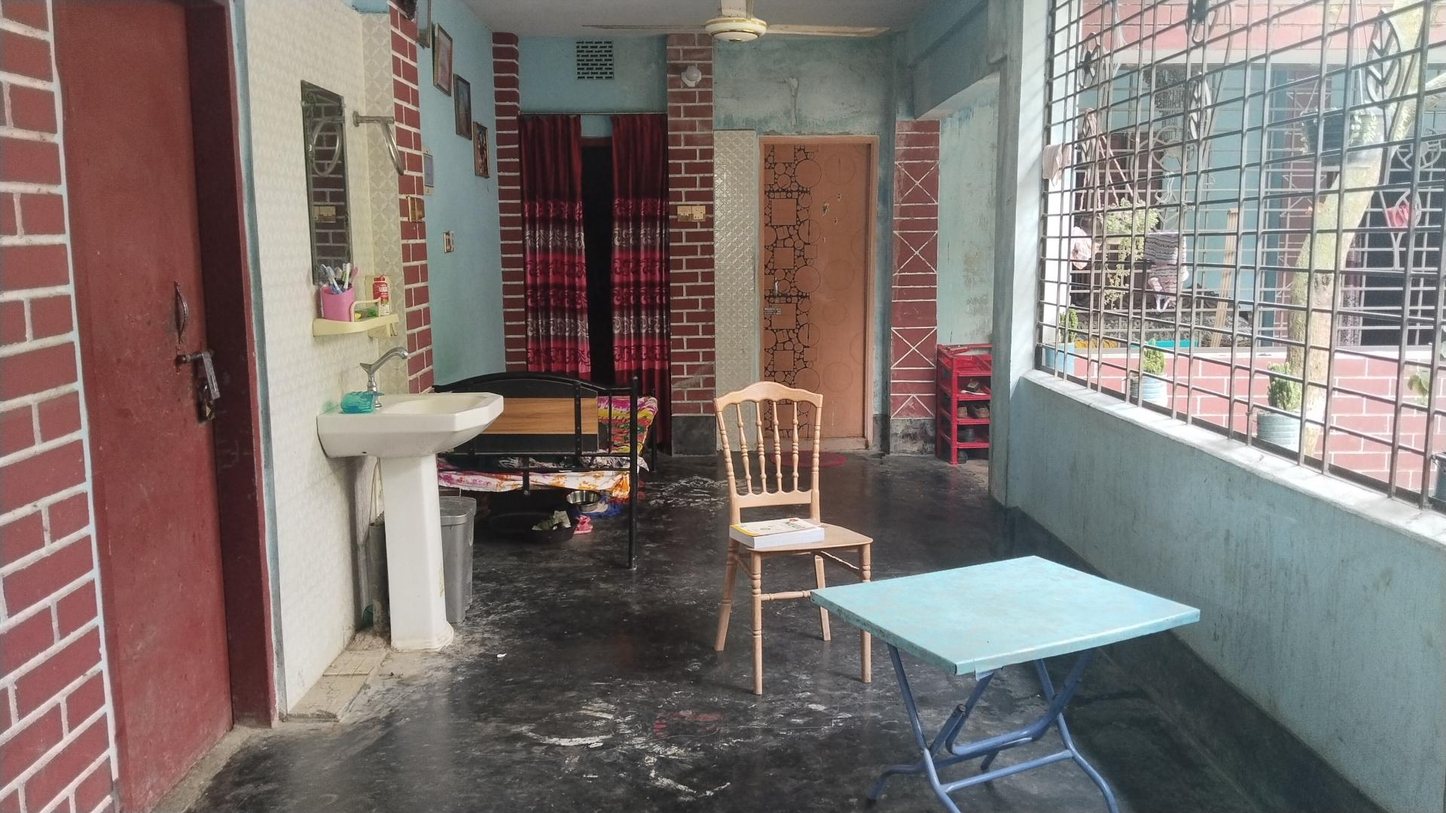Book: (731, 512, 830, 551)
Chair: (714, 384, 875, 685)
Door: (755, 141, 871, 454)
Table: (810, 549, 1208, 809)
